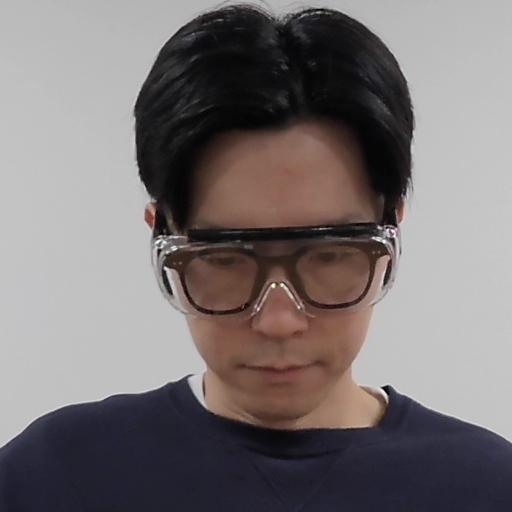glasses: (122, 2, 424, 389)
